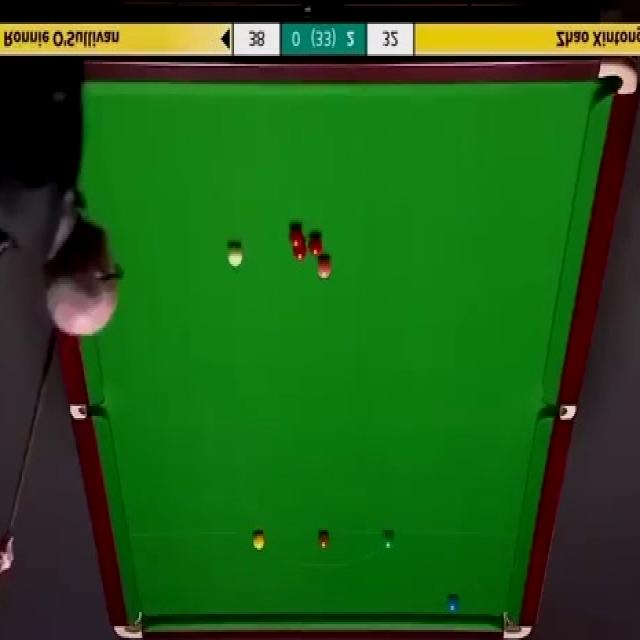blue-ball: (446, 596, 460, 616)
brown-ball: (317, 531, 330, 548)
green-ball: (382, 528, 396, 552)
pink-ball: (316, 256, 332, 280)
red-ball: (293, 238, 307, 262), (289, 226, 304, 248), (310, 235, 324, 255)
white-ball: (228, 243, 245, 270)
yellow-ball: (252, 530, 266, 551)
